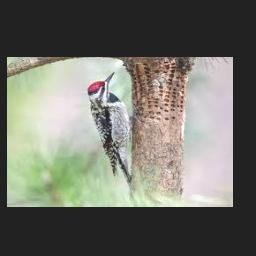Woodpecker: (88, 71, 133, 185)
